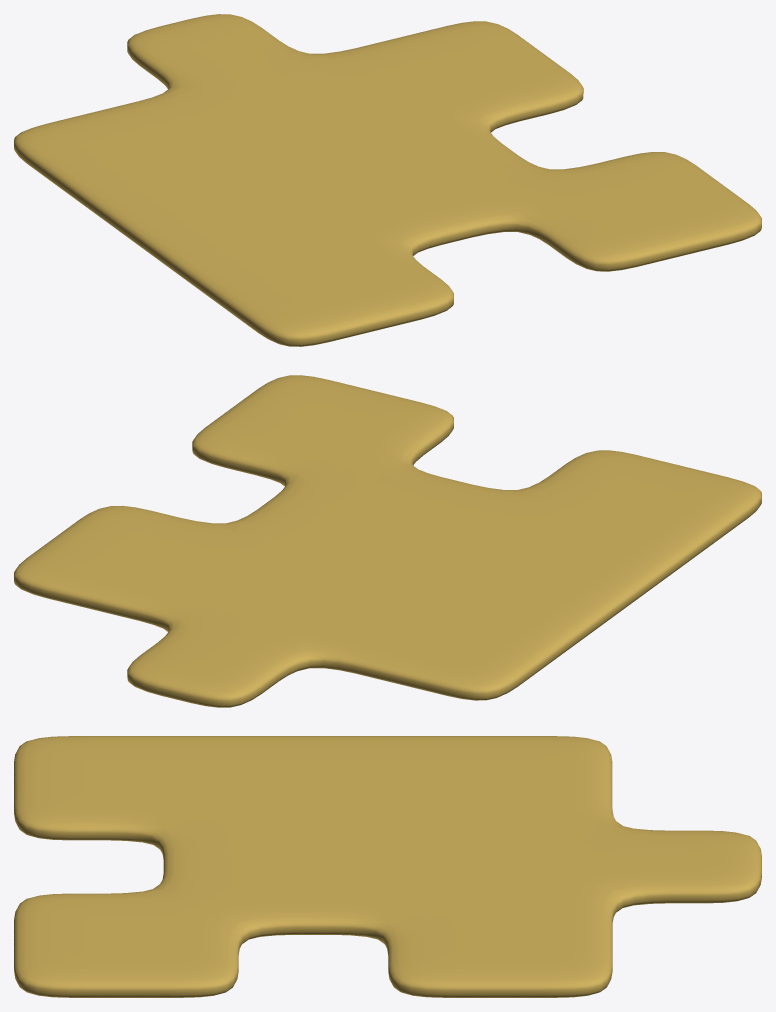
The model's file is GoldenPuzzle-07-OMFF.fbx.
3 views of the same model, one above another, from view 1: azimuth 30°, elevation 25°; view 2: azimuth 150°, elevation 25°; view 3: azimuth 270°, elevation 25° (orthographic). The views are drawn at different scales.
Visible parts, largest first — view 1: Puzzle_007; view 2: Puzzle_007; view 3: Puzzle_007.
Boxes of the visible parts, x1=… form: Puzzle_007: x1=14, y1=14, x2=761, y2=346; Puzzle_007: x1=14, y1=375, x2=761, y2=707; Puzzle_007: x1=14, y1=736, x2=761, y2=997.
Bounding box in the file's own units: 0.25 × 0.00924 × 0.3137.
